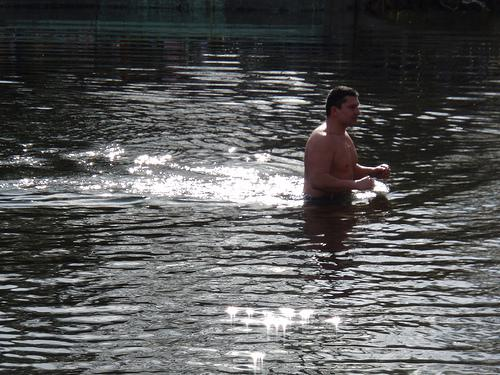swimmer: (302, 84, 392, 202)
